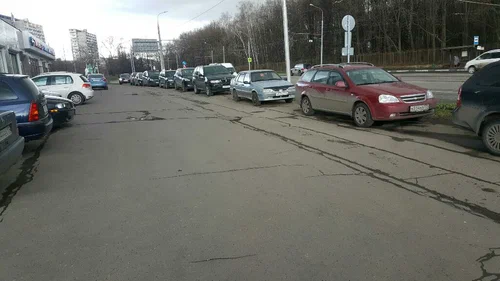Car: (296, 63, 437, 128), (452, 59, 500, 155), (0, 73, 54, 147), (230, 69, 295, 105), (32, 72, 93, 105), (0, 111, 24, 178), (192, 65, 235, 96), (46, 95, 76, 125), (465, 49, 500, 74), (174, 68, 196, 91), (209, 63, 238, 76), (87, 73, 108, 90), (159, 70, 176, 88), (291, 63, 312, 76), (142, 71, 159, 86), (40, 88, 62, 97), (118, 74, 130, 85), (134, 72, 143, 85), (130, 72, 138, 84)
